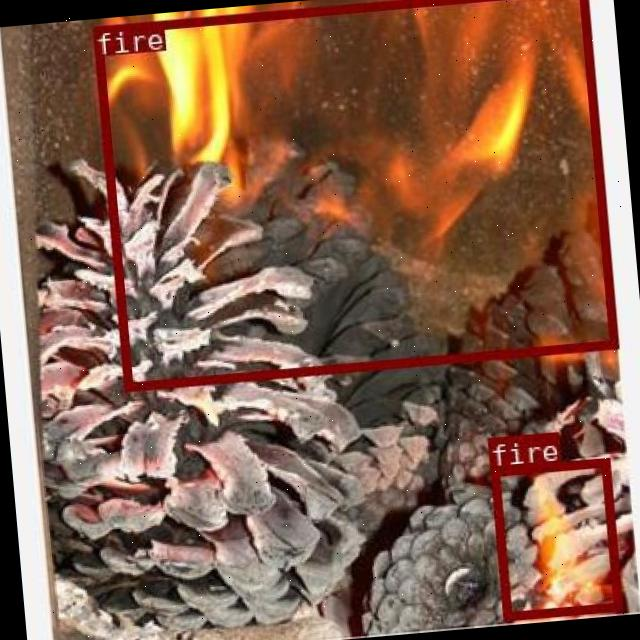fire: (90, 0, 616, 388), (488, 456, 620, 618)
